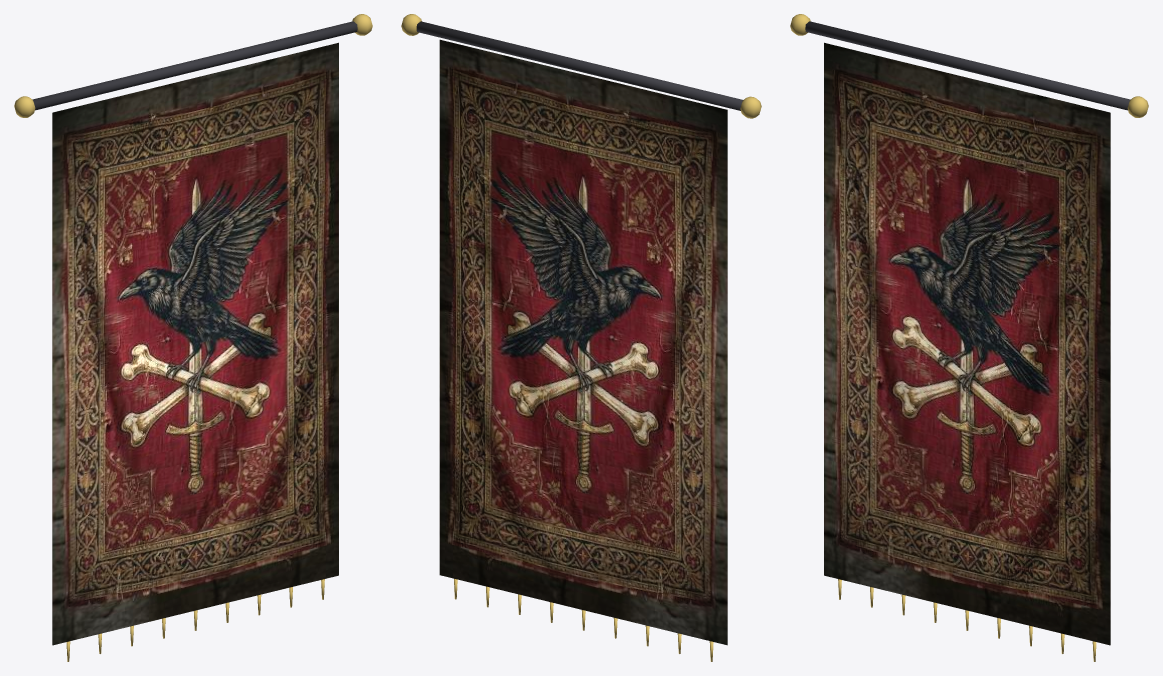
File: art_tapestry_raven_heraldry.glb
3 renders of one model, left to right at view 1: azimuth 30°, elevation 25°; view 2: azimuth 150°, elevation 25°; view 3: azimuth 330°, elevation 25°, orthographic.
Parts seen in each view (by area): view 1: GD_art_tapestry_raven_heraldry__m0, GD_art_tapestry_raven_heraldry__m1, GD_art_tapestry_raven_heraldry__m2; view 2: GD_art_tapestry_raven_heraldry__m0, GD_art_tapestry_raven_heraldry__m1, GD_art_tapestry_raven_heraldry__m2; view 3: GD_art_tapestry_raven_heraldry__m0, GD_art_tapestry_raven_heraldry__m1, GD_art_tapestry_raven_heraldry__m2.
Part boxes in pixels (x1,y1,x2,y2): GD_art_tapestry_raven_heraldry__m0: [52, 42, 338, 645]; GD_art_tapestry_raven_heraldry__m1: [32, 21, 357, 110]; GD_art_tapestry_raven_heraldry__m2: [14, 14, 372, 661]; GD_art_tapestry_raven_heraldry__m0: [439, 39, 727, 645]; GD_art_tapestry_raven_heraldry__m1: [416, 21, 742, 110]; GD_art_tapestry_raven_heraldry__m2: [401, 14, 761, 661]; GD_art_tapestry_raven_heraldry__m0: [824, 42, 1110, 645]; GD_art_tapestry_raven_heraldry__m1: [805, 21, 1130, 110]; GD_art_tapestry_raven_heraldry__m2: [790, 14, 1148, 661].
Bounding box in the file's own units: 1.12 × 1.72 × 0.06.
3 materials, 1 textured.
